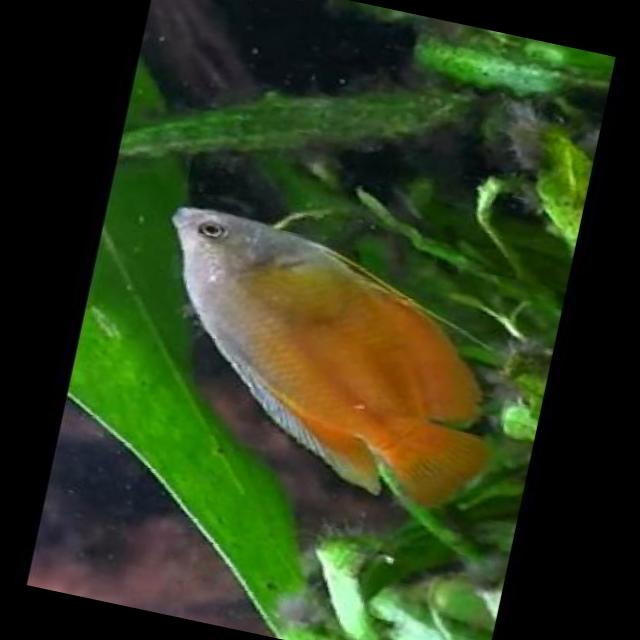Gourami: (118, 197, 520, 512)
